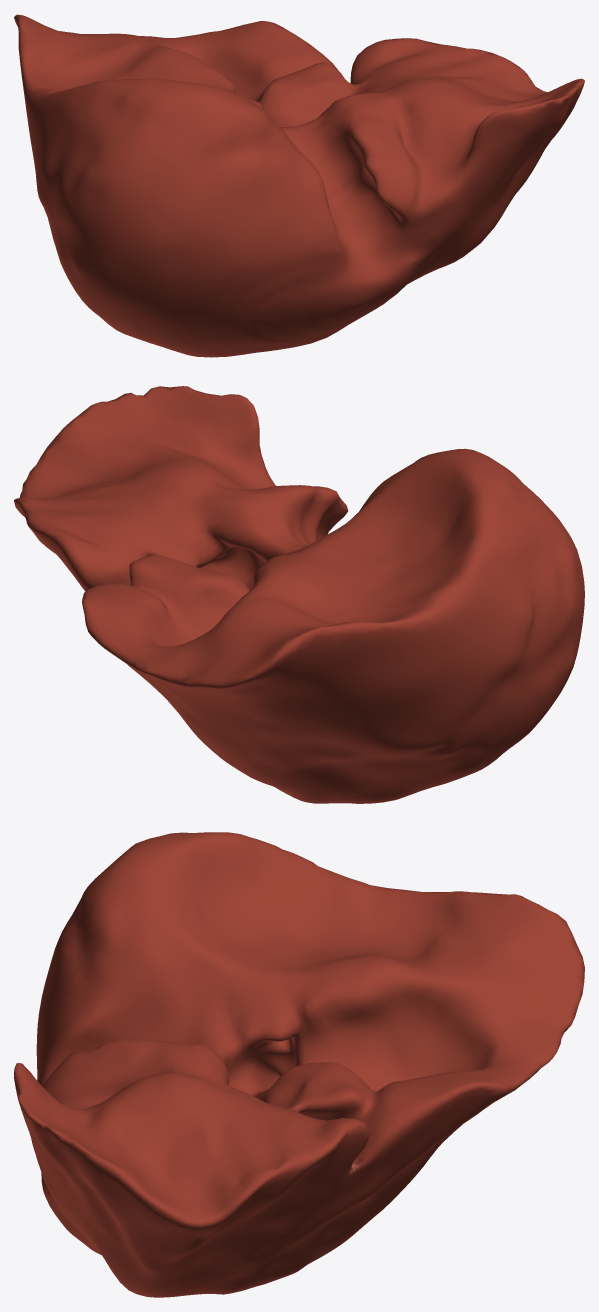
The model's file is higado.dae.
3 views of the same model, one above another, from view 1: azimuth 30°, elevation 25°; view 2: azimuth 150°, elevation 25°; view 3: azimuth 270°, elevation 25° (orthographic). The views are drawn at different scales.
Parts seen in each view (by area): view 1: SketchUp; view 2: SketchUp; view 3: SketchUp.
Boxes of the visible parts, x1,y1,x2,y2 form: SketchUp: (14, 14, 584, 357); SketchUp: (14, 386, 584, 803); SketchUp: (14, 832, 584, 1297).
Size of the model in its own units: 13.05 by 10.64 by 7.54.
